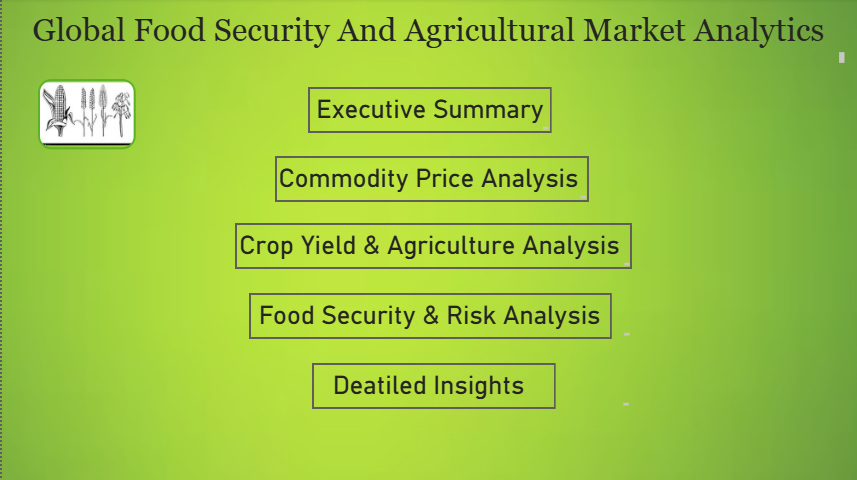

What the dashboard file says about the page in this screenshot:
{"tool":"powerbi","page":{"name":"Index","canvas":[1280,720],"ordinal":0},"visuals":[{"type":"textbox","title":"Global Food Security And Agricultural Market Analytics","box":[10.5,20.9,1253.3,80.7],"z":0},{"type":"textbox","title":"Executive Summary","box":[457.1,143.4,364.5,58.3],"z":1},{"type":"textbox","title":"Commodity Price Analysis","box":[397.3,246.5,479.5,58.3],"z":2},{"type":"textbox","title":"Crop Yield & Agriculture Analysis","box":[334.6,346.6,608,58.3],"z":3},{"type":"textbox","title":"Food Security & Risk Analysis","box":[334.6,451.1,608,58.3],"z":4},{"type":"textbox","title":"Deatiled Insights","box":[333.1,555.7,608,58.3],"z":5},{"type":"actionButton","box":[457.1,132.9,364.5,68.7],"z":6},{"type":"actionButton","box":[407.8,236,469,68.7],"z":7},{"type":"actionButton","box":[348,336.1,593,68.7],"z":8},{"type":"actionButton","box":[369,440.7,542.2,68.7],"z":9},{"type":"actionButton","box":[463.1,545.2,364.5,68.7],"z":10},{"type":"image","box":[53.8,121,179.3,103.1],"z":11}]}

Visuals, with their boxes in screenshot pixels (x1, y1, x2, y2), scaled from the page's 1280x720 canvas onto the 857x480 screenshot:
"Global Food Security And Agricultural Market Analytics" textbox: <region>7, 14, 846, 68</region>
"Executive Summary" textbox: <region>306, 96, 550, 134</region>
"Commodity Price Analysis" textbox: <region>266, 164, 587, 203</region>
"Crop Yield & Agriculture Analysis" textbox: <region>224, 231, 631, 270</region>
"Food Security & Risk Analysis" textbox: <region>224, 301, 631, 340</region>
"Deatiled Insights" textbox: <region>223, 370, 630, 409</region>
actionButton: <region>306, 89, 550, 134</region>
actionButton: <region>273, 157, 587, 203</region>
actionButton: <region>233, 224, 630, 270</region>
actionButton: <region>247, 294, 610, 340</region>
actionButton: <region>310, 363, 554, 409</region>
image: <region>36, 81, 156, 149</region>
